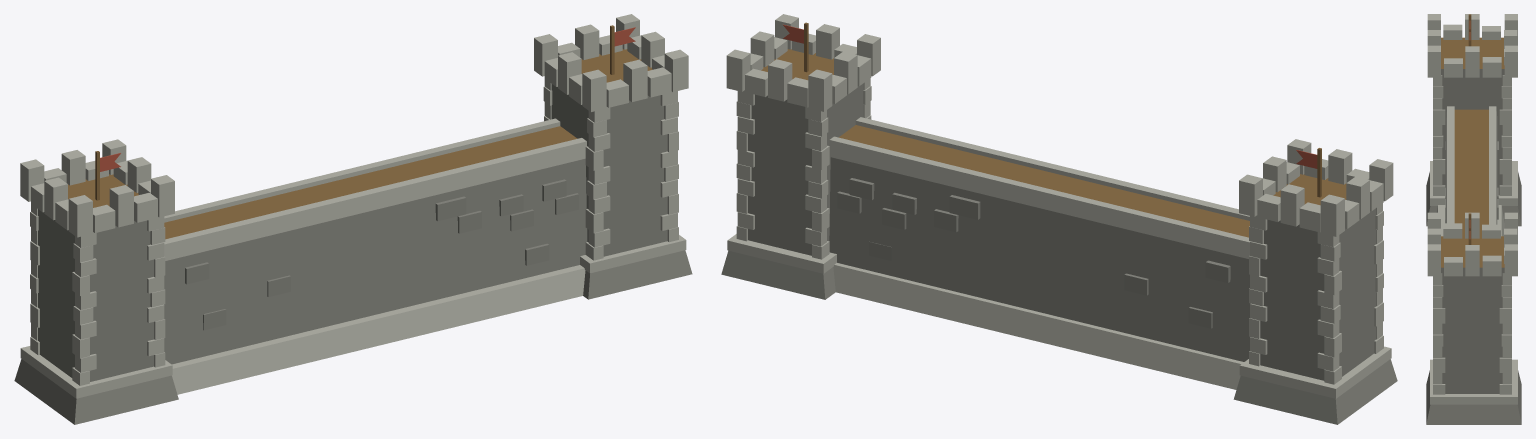
Rendered from quaternius-real-time-strategy-wall-towers-second-age.glb.
3 views of the same model, side by side, from view 1: azimuth 30°, elevation 25°; view 2: azimuth 150°, elevation 25°; view 3: azimuth 270°, elevation 25° (orthographic). The views are drawn at different scales.
Parts seen in each view (by area): view 1: WallTowers_SecondAge; view 2: WallTowers_SecondAge; view 3: WallTowers_SecondAge.
Part boxes in pixels (x1,y1,x2,y2): WallTowers_SecondAge: [14, 14, 692, 424]; WallTowers_SecondAge: [721, 14, 1397, 424]; WallTowers_SecondAge: [1426, 14, 1521, 424].
Size of the model in its own units: 1.98 by 0.7354 by 0.3333.
